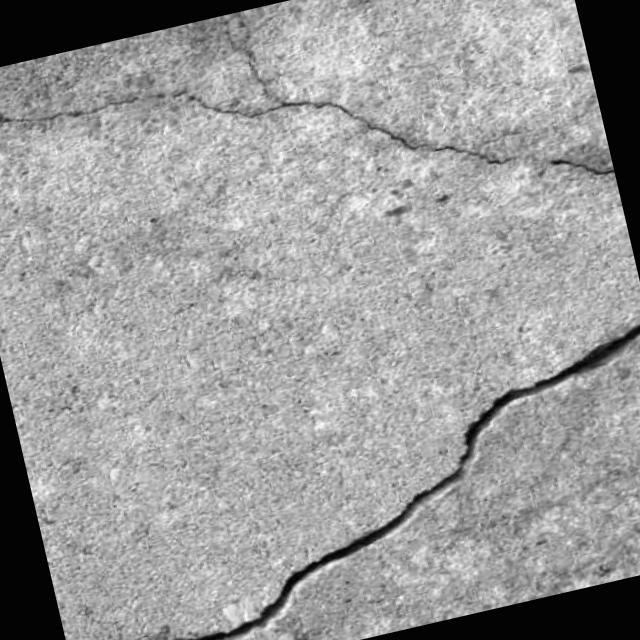crack: (26, 315, 640, 640), (0, 0, 610, 314)
